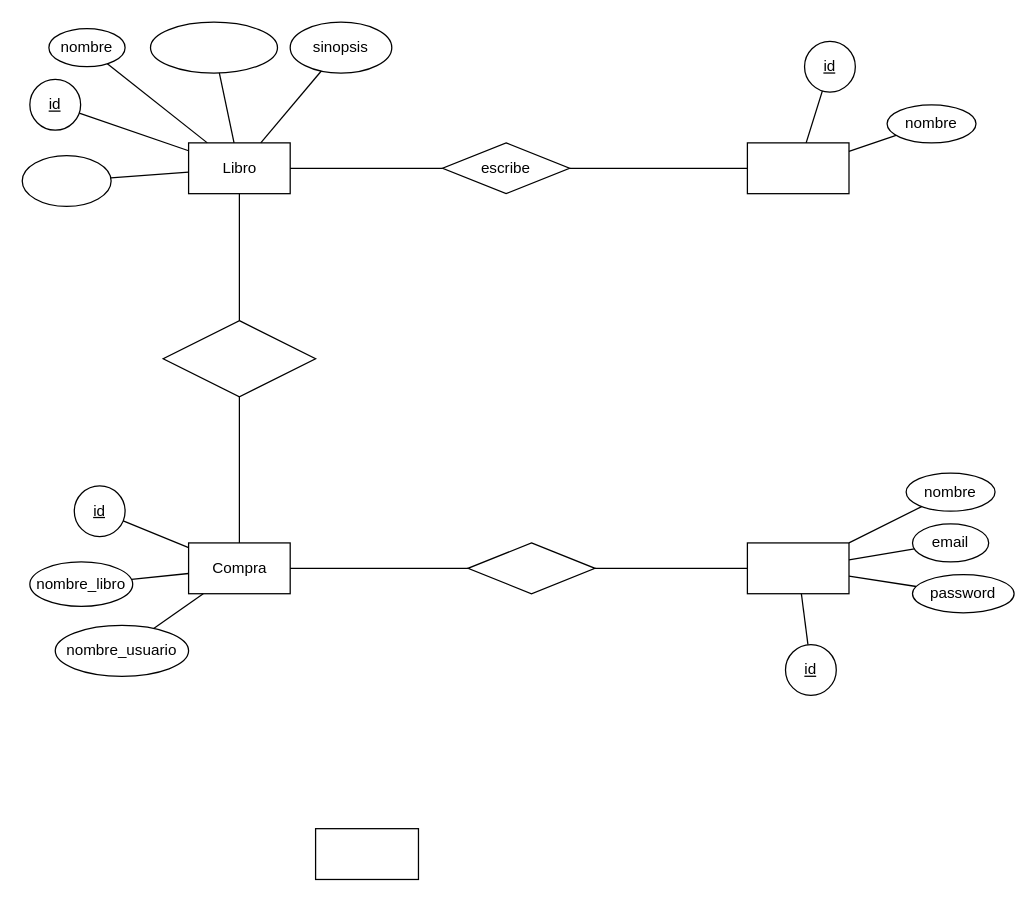
Some shapes in this 1036 by 902 pixel diagram are drawn without their labels. Each missing label, with the centre of its shape:
"Autor" belongs at (797,168).
"contiene" belongs at (239,358).
"Empleado" belongs at (366,853).
"imagen" belongs at (66,180).
"realiza" belongs at (531,568).
"stock" belongs at (213,47).
"Usuario" belongs at (797,568).
